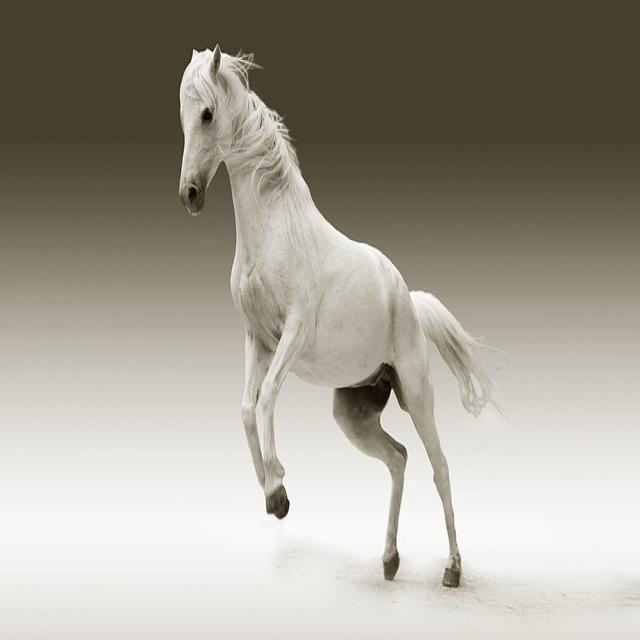Herbivorous: (178, 46, 508, 591)
